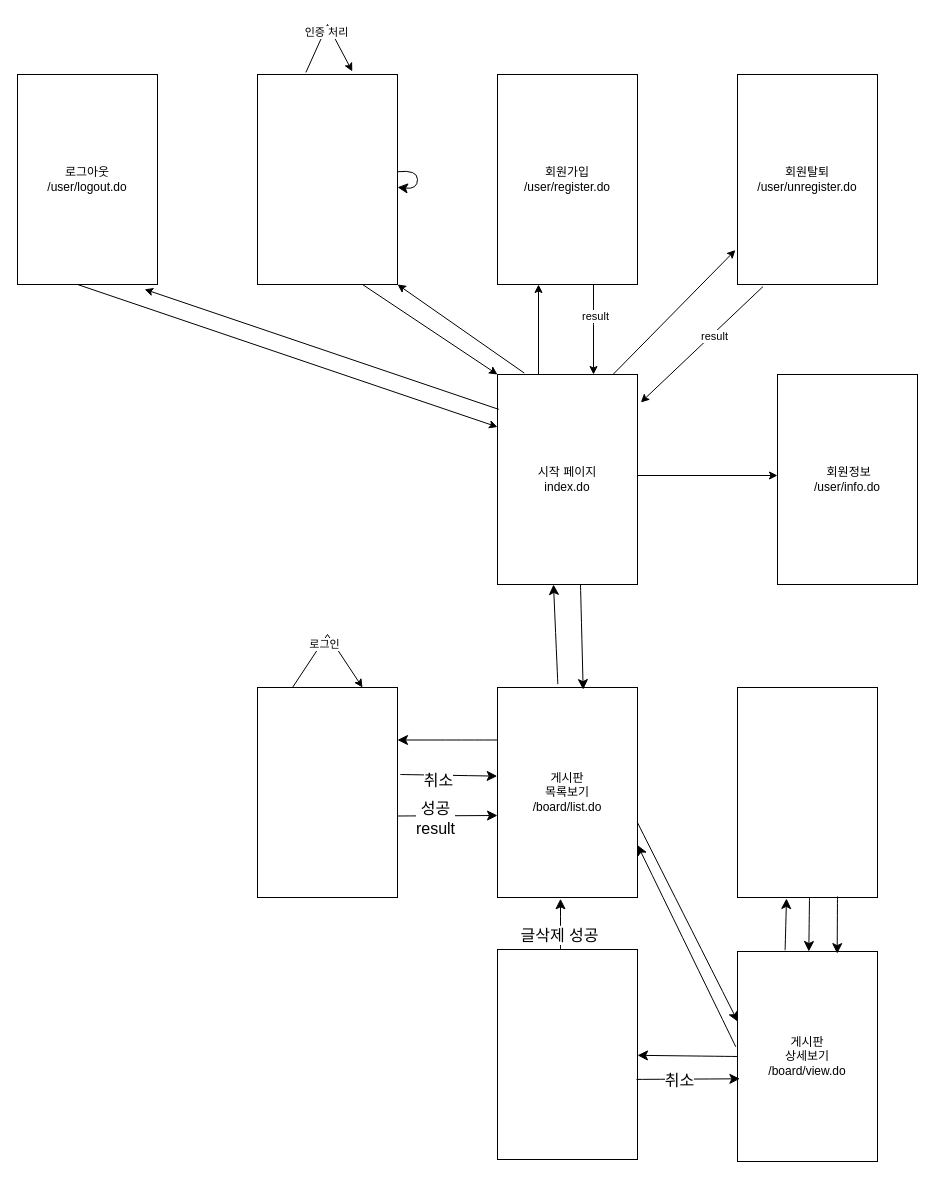
Image size: 935x1179. Some labels were removed from this diagram. The box of each missing label's shape, as (x1, y1, x2, y2) in pixels:
게시판 글쓰기 /board/add.do: (256, 686, 398, 898)
게시판 삭제하기 /board/del.do: (496, 948, 638, 1160)
게시판 수정하기 /board/edit.do: (736, 686, 878, 898)
로그인 /user/login.do: (256, 74, 398, 284)
